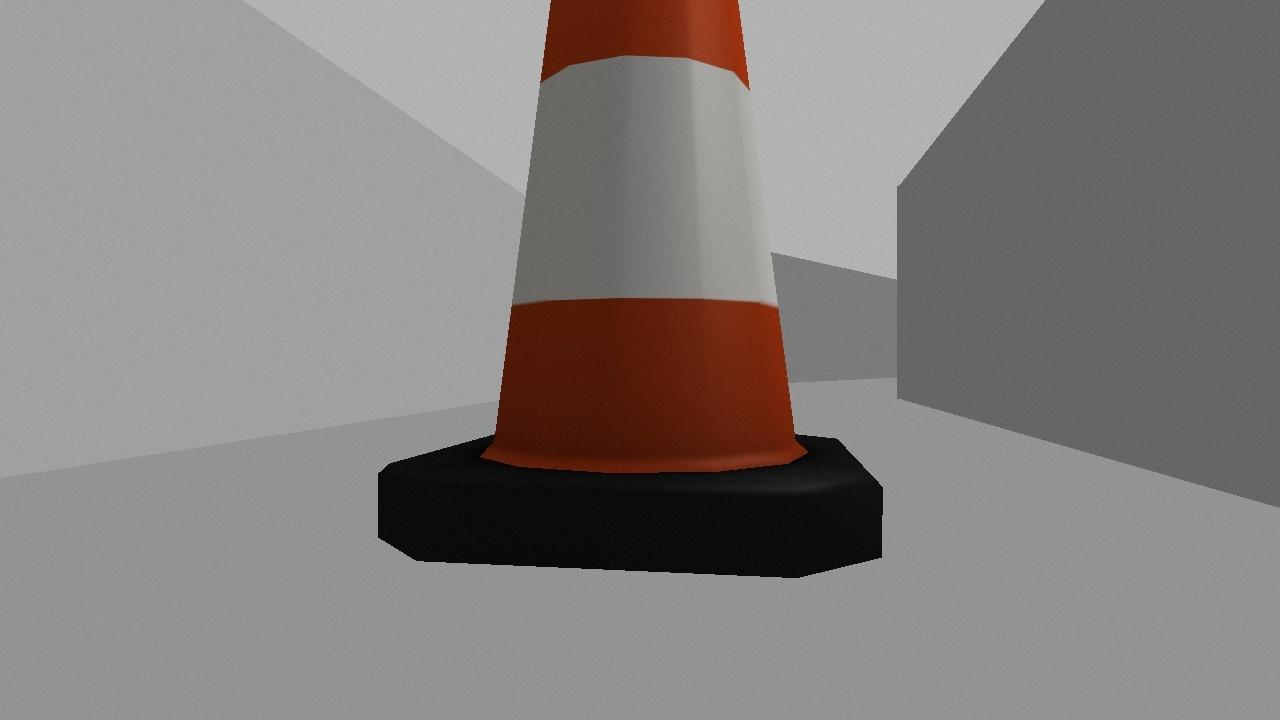cone_barrel: (373, 0, 882, 579)
